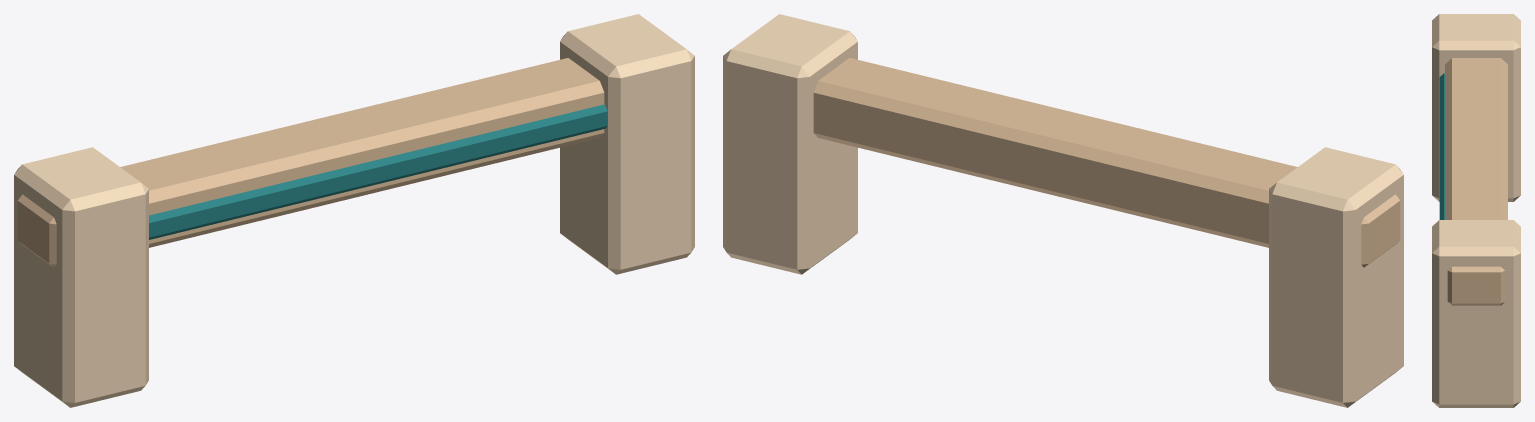
The model's file is Rail.fbx.
3 views of the same model, side by side, from view 1: azimuth 30°, elevation 25°; view 2: azimuth 150°, elevation 25°; view 3: azimuth 270°, elevation 25° (orthographic). The views are drawn at different scales.
Parts seen in each view (by area): view 1: Rail; view 2: Rail; view 3: Rail.
Part boxes in pixels (x1,y1,x2,y2): Rail: [14, 14, 694, 407]; Rail: [723, 14, 1403, 407]; Rail: [1432, 14, 1520, 407].
Size of the model in its own units: 2 by 0.62 by 0.31.
